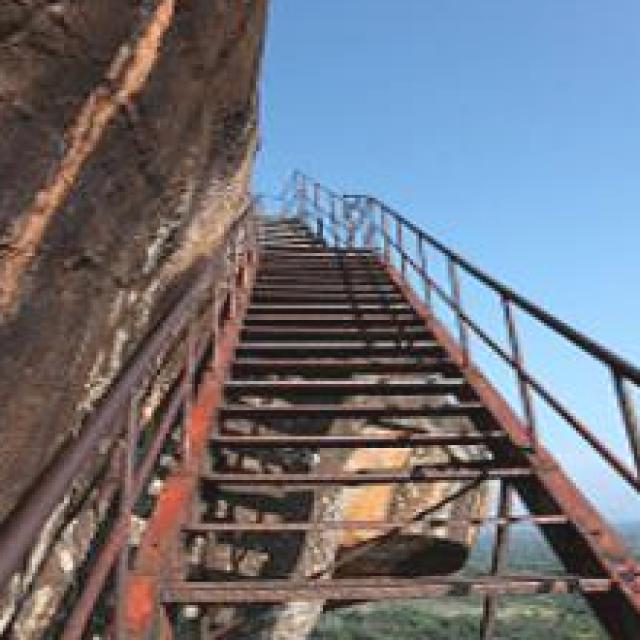upstair: (187, 344, 583, 618)
